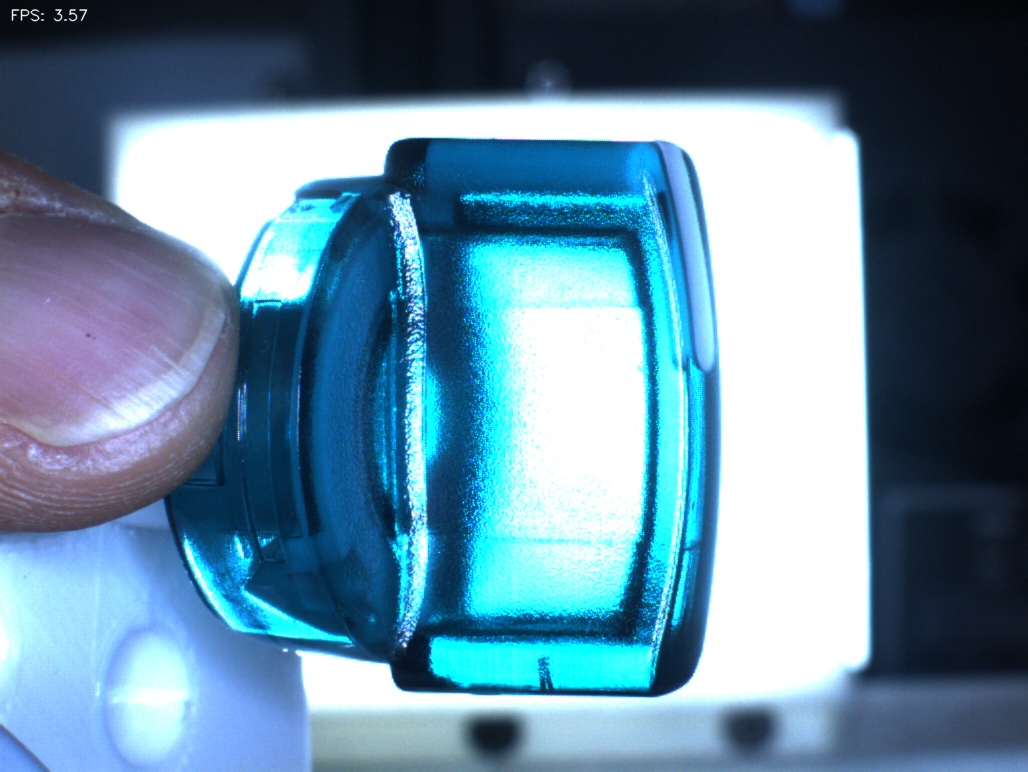Bulle: (509, 631, 587, 715)
